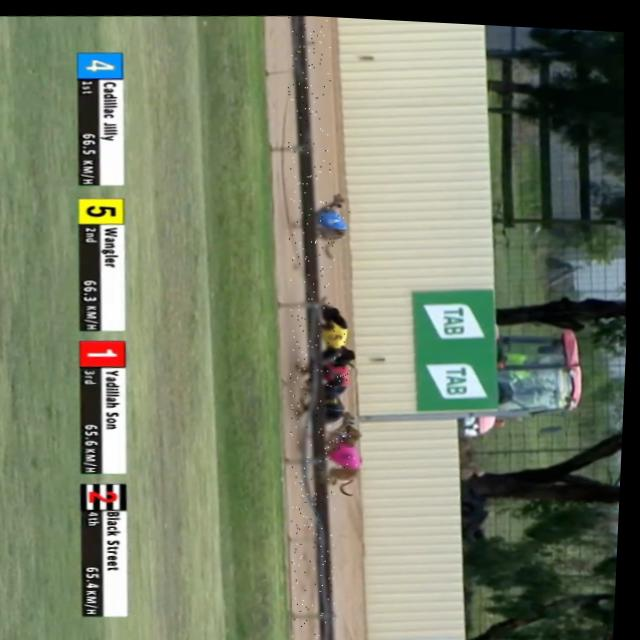dog_eight: (332, 441, 364, 466)
dog_five: (320, 321, 348, 342)
dog_four: (310, 206, 353, 230)
dog_one: (321, 361, 354, 383)
dog_seven: (315, 388, 344, 406)
dog_two: (330, 427, 357, 445)
rail: (286, 13, 340, 640)
